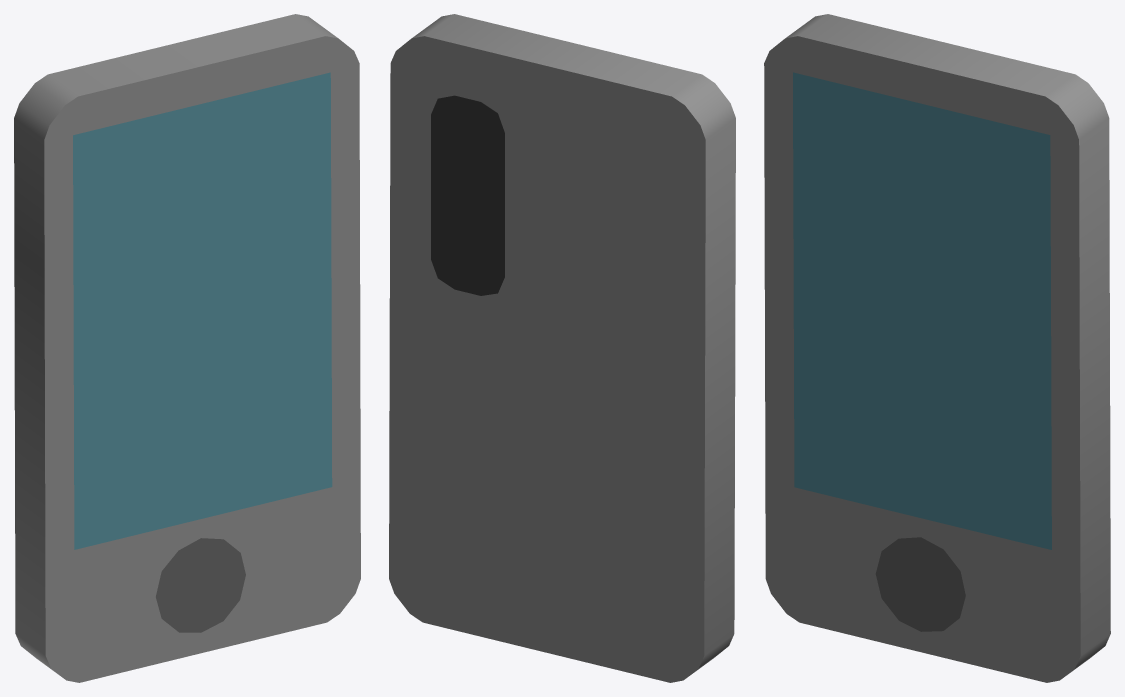
Rendered from phone_01.fbx.
3 views of the same model, side by side, from view 1: azimuth 30°, elevation 25°; view 2: azimuth 150°, elevation 25°; view 3: azimuth 330°, elevation 25° (orthographic).
Visible parts, largest first — view 1: phone_01; view 2: phone_01; view 3: phone_01.
Part boxes in pixels (x1,y1,x2,y2): phone_01: (14,14,360,682); phone_01: (389,14,735,682); phone_01: (764,14,1110,682).
Size of the model in its own units: 31.91 by 56.48 by 5.28.
